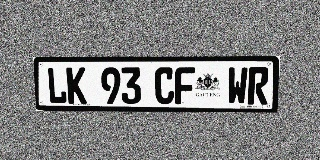3: (121, 67, 141, 104)
9: (101, 67, 121, 104)
C: (155, 67, 174, 104)
F: (175, 67, 195, 104)
K: (66, 67, 87, 104)
L: (46, 67, 67, 104)
R: (247, 67, 269, 105)
W: (227, 67, 248, 105)
